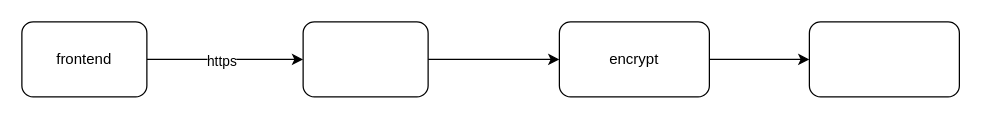
Image size: 981x119. Some labels were removed from this diagram. Here are the shapes that lost their labels. From the top down, the box of each, then its label:
(302, 21, 428, 97): backend
(808, 21, 959, 97): save to database
